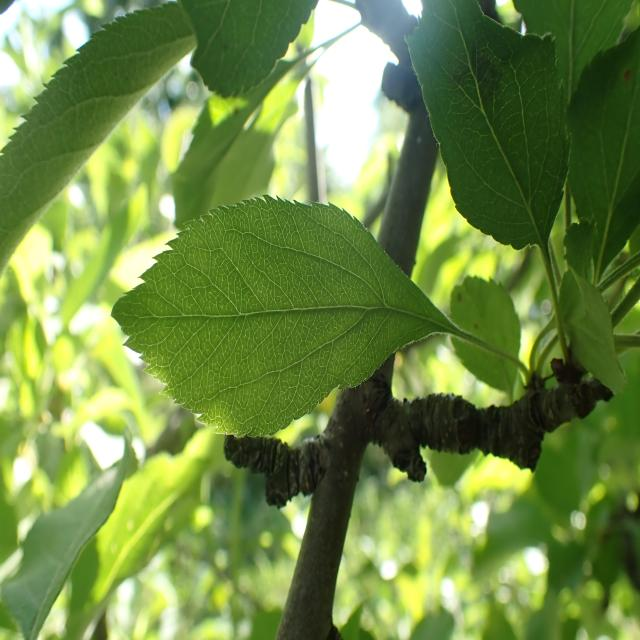healthy: (110, 194, 452, 438), (0, 0, 198, 275), (404, 0, 572, 252), (565, 25, 640, 282), (178, 0, 319, 99)
